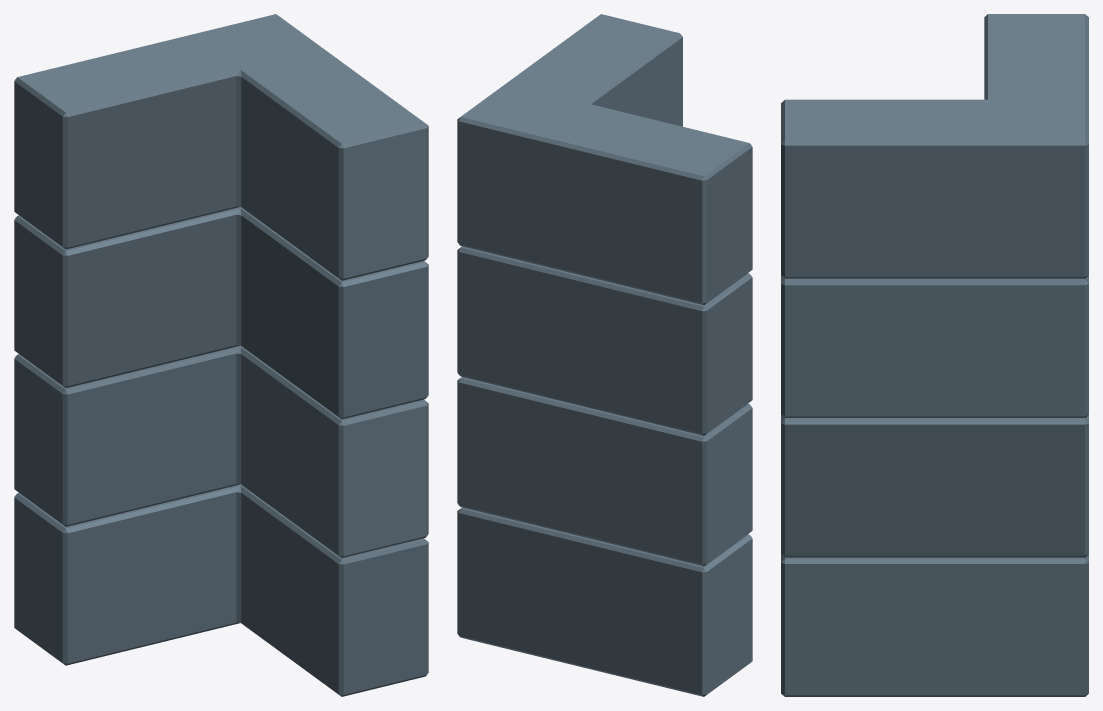
Rendered from A06_Wall_Corner.fbx.
The picture shows the model from 3 angles, left to right: view 1: azimuth 30°, elevation 25°; view 2: azimuth 150°, elevation 25°; view 3: azimuth 270°, elevation 25°; orthographic projection. The views are drawn at different scales.
Parts seen in each view (by area): view 1: A06_Wall_Corner; view 2: A06_Wall_Corner; view 3: A06_Wall_Corner.
Boxes of the visible parts, x1,y1,x2,y2 form: A06_Wall_Corner: (14,14,428,696); A06_Wall_Corner: (457,14,752,696); A06_Wall_Corner: (781,14,1088,696).
Bounding box in the file's own units: 1 × 1.99 × 1.
Materials: 1 (1 with a texture image).
